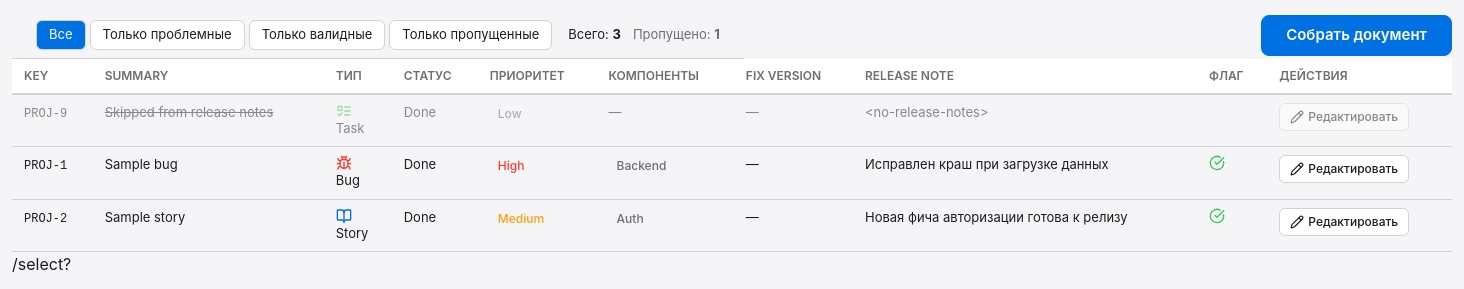
Test: IssueTable — skip filter (D-11, SKIP-02) › clicking «Только пропущенные» shows ONLY the skip issue (D-12)
Note: Activate the skip segment.
Click the button "Только пропущенные": (471, 35) [389,20,552,50]
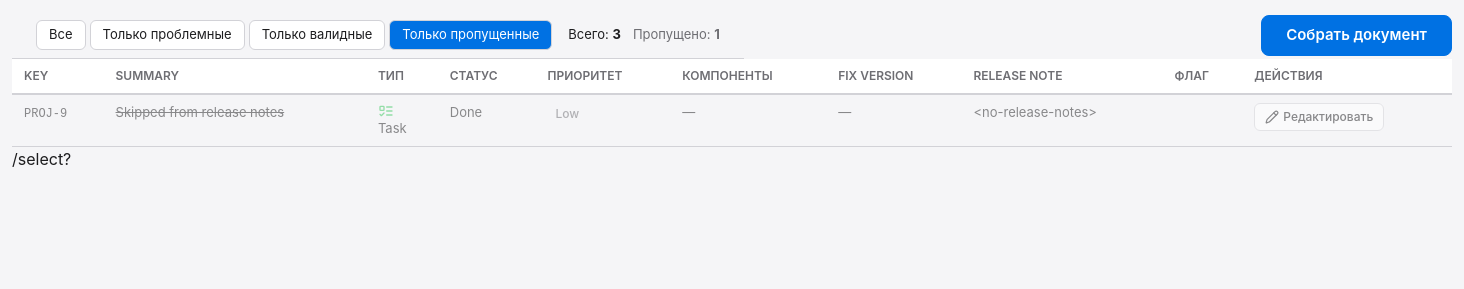
expect the text "PROJ-9" is shown: met, box [24,106,67,120]
expect the text "PROJ-1" is gone: met
expect the text "PROJ-2" is gone: met
